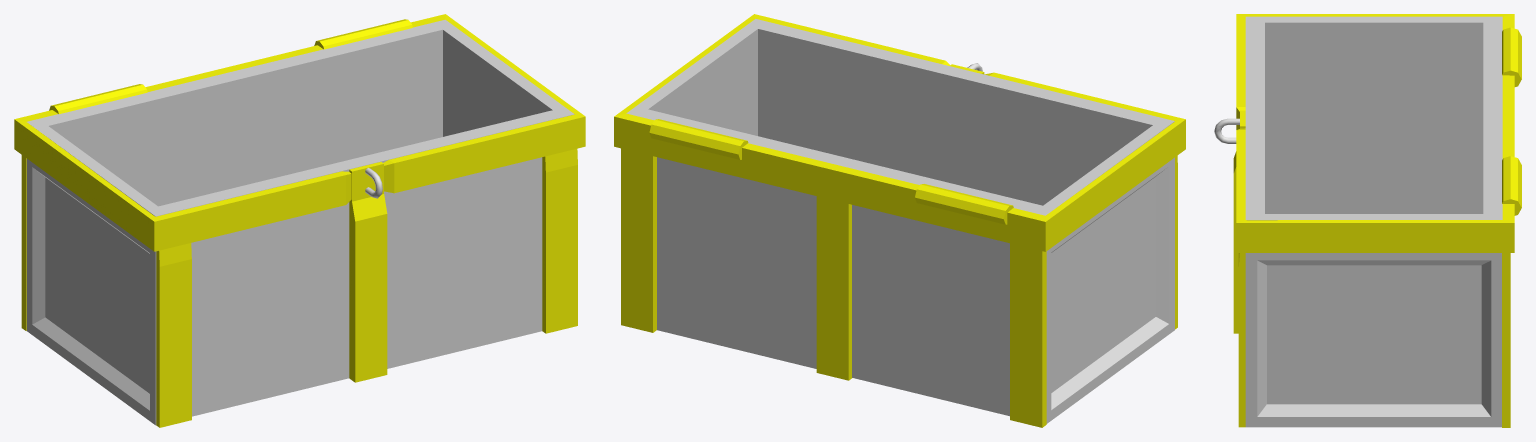
Rendered from Chest.glb.
3 renders of one model, left to right at view 1: azimuth 30°, elevation 25°; view 2: azimuth 150°, elevation 25°; view 3: azimuth 270°, elevation 25°, orthographic.
Visible parts, largest first — view 1: Chest; view 2: Chest; view 3: Chest.
Boxes of the visible parts, bbox=[...] form: Chest: bbox=[14, 14, 585, 427]; Chest: bbox=[614, 14, 1185, 427]; Chest: bbox=[1214, 14, 1521, 427].
Bounding box in the file's own units: 0.9805 × 0.466 × 0.6098.
3 materials, 1 textured.
